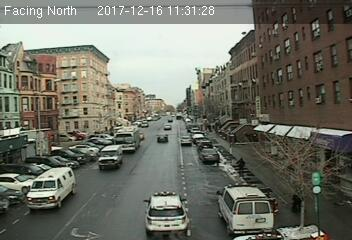bus: (115, 127, 140, 153)
car: (199, 147, 220, 164), (179, 135, 193, 147), (156, 132, 169, 142)
pedestrian: (235, 154, 246, 178)
police: (216, 182, 277, 235), (142, 190, 190, 236)
truck: (26, 166, 74, 210), (99, 145, 122, 168)
